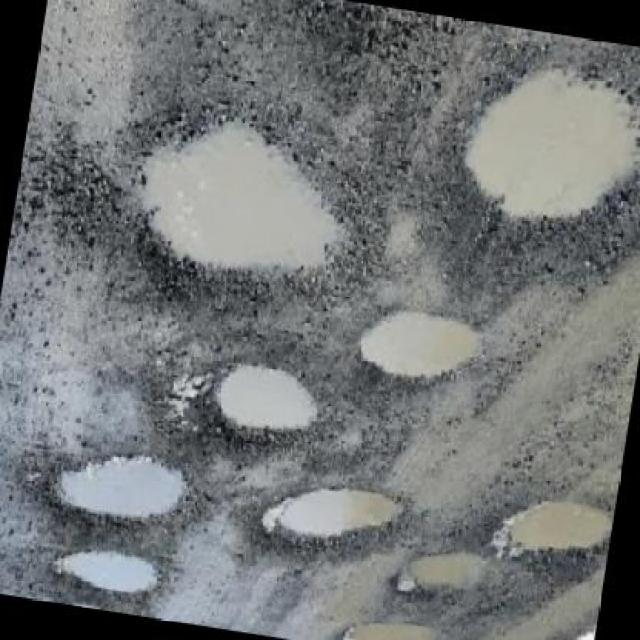pothole1: (104, 94, 376, 321), (437, 48, 638, 258), (37, 438, 201, 552), (246, 470, 408, 582), (343, 299, 483, 404), (199, 356, 323, 461), (491, 488, 614, 577), (42, 543, 163, 609), (396, 541, 498, 608), (332, 608, 445, 638)
